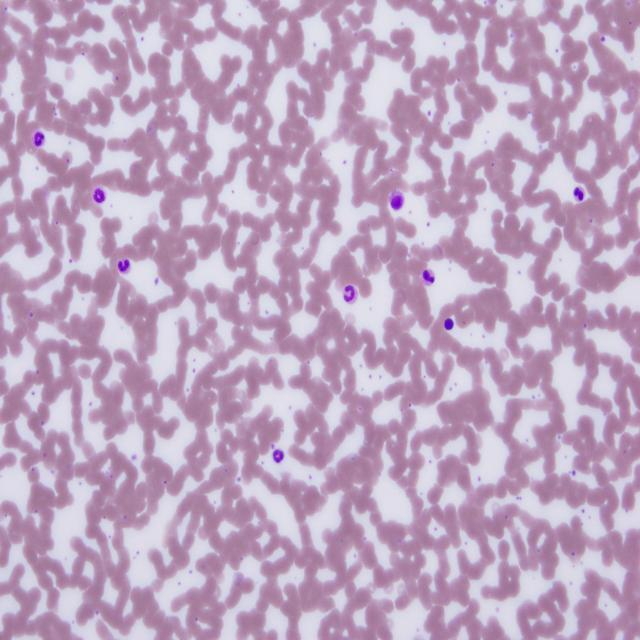cell: (342, 285, 358, 303), (422, 269, 435, 285), (32, 131, 45, 147), (118, 258, 130, 273), (574, 186, 585, 201), (94, 188, 105, 202)
